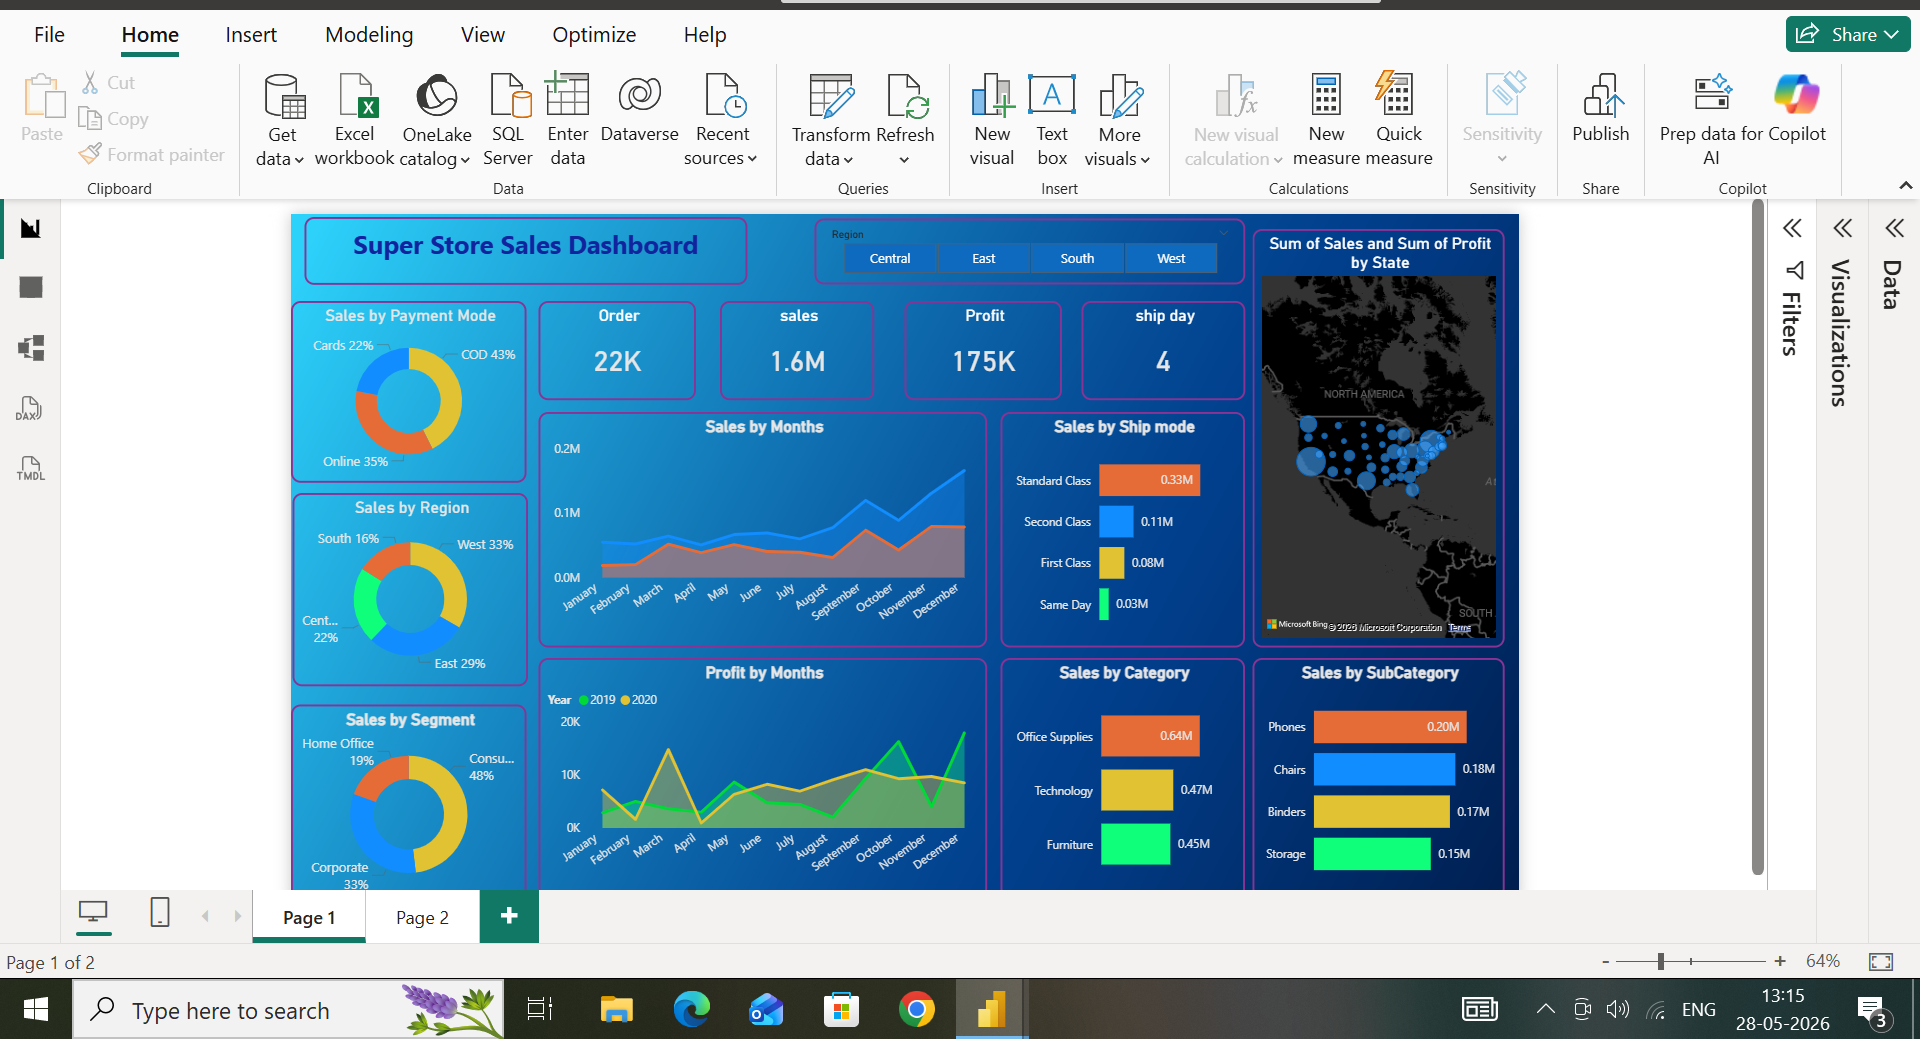

The dashboard page shown, as its layout file describes it:
{"tool":"powerbi","page":{"name":"Page 1","canvas":[1280,720],"ordinal":0},"visuals":[{"type":"clusteredBarChart","title":" Sales by SubCategory","fields":{"Y":["Sum(SuperStore_Sales_Dataset.Sales)"],"Category":["SuperStore_Sales_Dataset.Sub-Category"]},"box":[1001.9,462.6,262.6,250.1],"z":0},{"type":"clusteredBarChart","title":" Sales by Category","fields":{"Category":["SuperStore_Sales_Dataset.Category"],"Y":["Sum(SuperStore_Sales_Dataset.Sales)"]},"box":[739.3,462.6,254.8,250.1],"z":1000},{"type":"clusteredBarChart","title":" Sales by Ship mode","fields":{"Y":["Sum(SuperStore_Sales_Dataset.Sales)"],"Category":["SuperStore_Sales_Dataset.Ship Mode"]},"box":[739.3,206.3,254.8,245.4],"z":2000},{"type":"areaChart","title":"Sales by Months","fields":{"Y":["Sum(SuperStore_Sales_Dataset.Sales)"],"Category":["SuperStore_Sales_Dataset.Order Date.Variation.Date Hierarchy.Month","SuperStore_Sales_Dataset.Order Date.Variation.Date Hierarchy.Day"],"Series":["SuperStore_Sales_Dataset.Order Date.Variation.Date Hierarchy.Year"]},"box":[257.9,206.3,467.3,245.4],"z":3000},{"type":"areaChart","title":"Profit by Months","fields":{"Y":["Sum(SuperStore_Sales_Dataset.Profit)"],"Category":["SuperStore_Sales_Dataset.Order Date.Variation.Date Hierarchy.Month","SuperStore_Sales_Dataset.Order Date.Variation.Date Hierarchy.Day"],"Series":["SuperStore_Sales_Dataset.Order Date.Variation.Date Hierarchy.Year"]},"box":[257.9,462.6,467.3,250.1],"z":4000},{"type":"donutChart","title":"Sales by Segment","fields":{"Category":["SuperStore_Sales_Dataset.Segment"],"Y":["Sum(SuperStore_Sales_Dataset.Sales)"]},"box":[0,511.1,245.4,209.4],"z":5000},{"type":"donutChart","title":" Sales by Payment Mode","fields":{"Y":["Sum(SuperStore_Sales_Dataset.Sales)"],"Category":["SuperStore_Sales_Dataset.Payment Mode"]},"box":[0,90.7,245.4,189.1],"z":6000},{"type":"slicer","fields":{"Values":["SuperStore_Sales_Dataset.Region"]},"box":[545.5,4.7,448.6,68.8],"z":7000},{"type":"textbox","box":[14.1,3.1,461.1,70.3],"z":8000},{"type":"card","title":"sales","fields":{"Values":["Sum(SuperStore_Sales_Dataset.Sales)"]},"box":[447,90.7,161,103.2],"z":9000},{"type":"card","title":"Order","fields":{"Values":["Sum(SuperStore_Sales_Dataset.Quantity)"]},"box":[257.9,90.7,164.1,103.2],"z":10000},{"type":"card","title":"Profit","fields":{"Values":["Sum(SuperStore_Sales_Dataset.Profit)"]},"box":[639.3,90.7,164.1,103.2],"z":11000},{"type":"card","title":"ship day","fields":{"Values":["Avg(SuperStore_Sales_Dataset.Average delivery)"]},"box":[823.7,90.7,170.4,103.2],"z":12000},{"type":"donutChart","title":"Sales by Region","fields":{"Y":["Sum(SuperStore_Sales_Dataset.Sales)"],"Category":["SuperStore_Sales_Dataset.Region"]},"box":[1.6,290.7,245.4,201.6],"z":13000},{"type":"map","fields":{"Size":["Sum(SuperStore_Sales_Dataset.Sales)"],"Category":["SuperStore_Sales_Dataset.State"]},"box":[1001.9,15.6,262.6,436.1],"z":14000}]}

Visuals, with their boxes on the page's 1280x720 design canvas (x1, y1, x2, y2). These are canvas units, not pixel positions in the 1920x1039 screenshot, which may show the page scaled, cropped or inside an application window:
" Sales by SubCategory" clusteredBarChart: (left=1002, top=463, right=1264, bottom=713)
" Sales by Category" clusteredBarChart: (left=739, top=463, right=994, bottom=713)
" Sales by Ship mode" clusteredBarChart: (left=739, top=206, right=994, bottom=452)
"Sales by Months" areaChart: (left=258, top=206, right=725, bottom=452)
"Profit by Months" areaChart: (left=258, top=463, right=725, bottom=713)
"Sales by Segment" donutChart: (left=0, top=511, right=245, bottom=720)
" Sales by Payment Mode" donutChart: (left=0, top=91, right=245, bottom=280)
slicer - SuperStore_Sales_Dataset.Region: (left=546, top=5, right=994, bottom=74)
textbox: (left=14, top=3, right=475, bottom=73)
"sales" card: (left=447, top=91, right=608, bottom=194)
"Order" card: (left=258, top=91, right=422, bottom=194)
"Profit" card: (left=639, top=91, right=803, bottom=194)
"ship day" card: (left=824, top=91, right=994, bottom=194)
"Sales by Region" donutChart: (left=2, top=291, right=247, bottom=492)
map - Sum(SuperStore_Sales_Dataset.Sales) x SuperStore_Sales_Dataset.State: (left=1002, top=16, right=1264, bottom=452)
